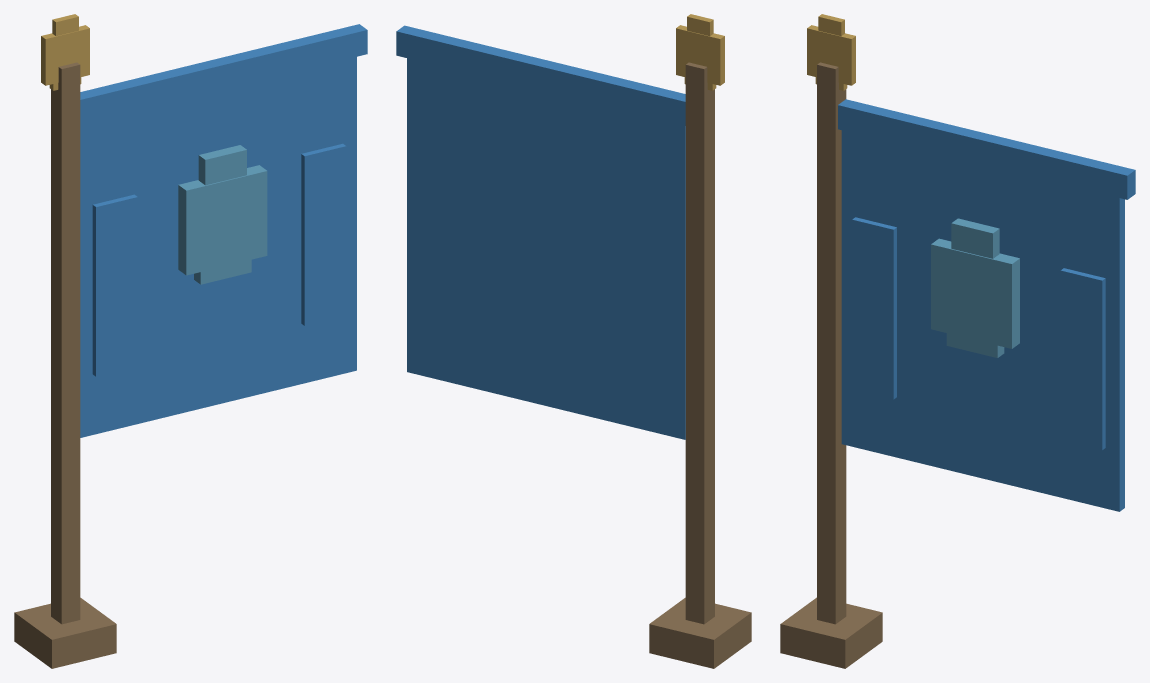
File: cosmetic_banner_inlet_flag.glb
3 views of the same model, side by side, from view 1: azimuth 30°, elevation 25°; view 2: azimuth 150°, elevation 25°; view 3: azimuth 330°, elevation 25° (orthographic).
Visible parts, largest first — view 1: CosmeticArt_cloth, CosmeticArt_pole, CosmeticArt_crest, CosmeticArt_finial; view 2: CosmeticArt_cloth, CosmeticArt_pole, CosmeticArt_finial; view 3: CosmeticArt_cloth, CosmeticArt_pole, CosmeticArt_crest, CosmeticArt_finial.
Part boxes in pixels (x1,y1,x2,y2): CosmeticArt_cloth: (80, 24, 367, 437); CosmeticArt_pole: (14, 62, 116, 668); CosmeticArt_crest: (178, 145, 267, 284); CosmeticArt_finial: (41, 14, 89, 90); CosmeticArt_cloth: (396, 25, 685, 439); CosmeticArt_pole: (649, 62, 751, 668); CosmeticArt_finial: (676, 14, 724, 90); CosmeticArt_cloth: (838, 99, 1135, 511); CosmeticArt_pole: (780, 62, 882, 668); CosmeticArt_crest: (931, 218, 1019, 357); CosmeticArt_finial: (807, 14, 855, 90).
Bounding box in the file's own units: 1.43 × 2.6 × 0.28.
